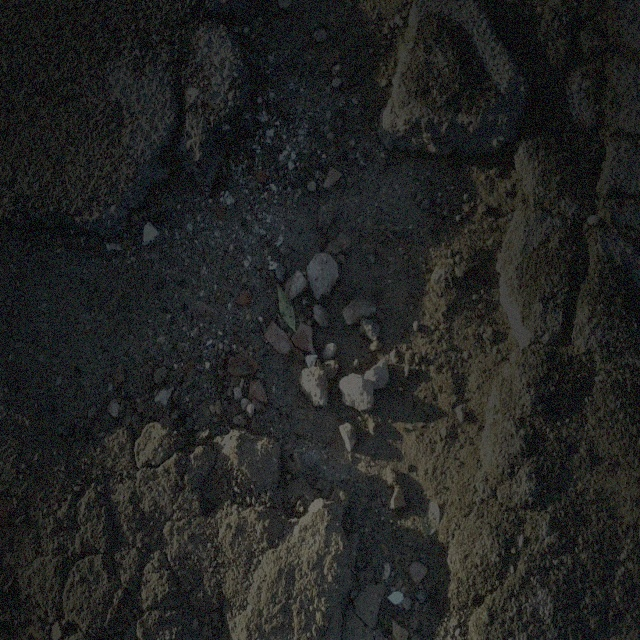pothole: (122, 92, 505, 563)
